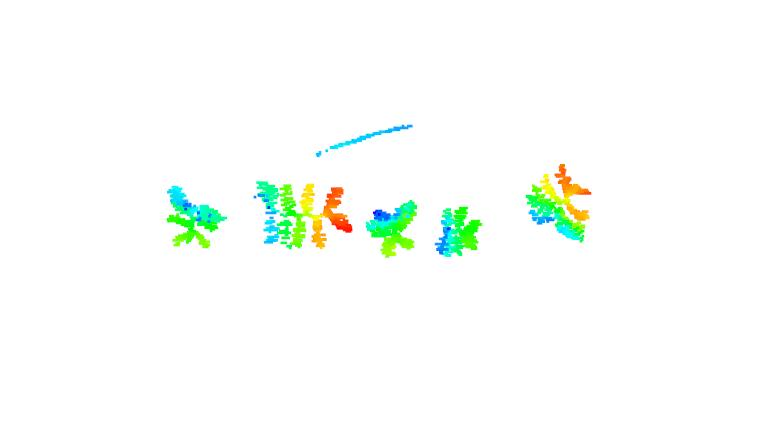chickpea: (253, 174, 355, 249), (522, 162, 593, 245), (162, 181, 229, 251), (364, 199, 421, 260), (431, 204, 485, 261)
